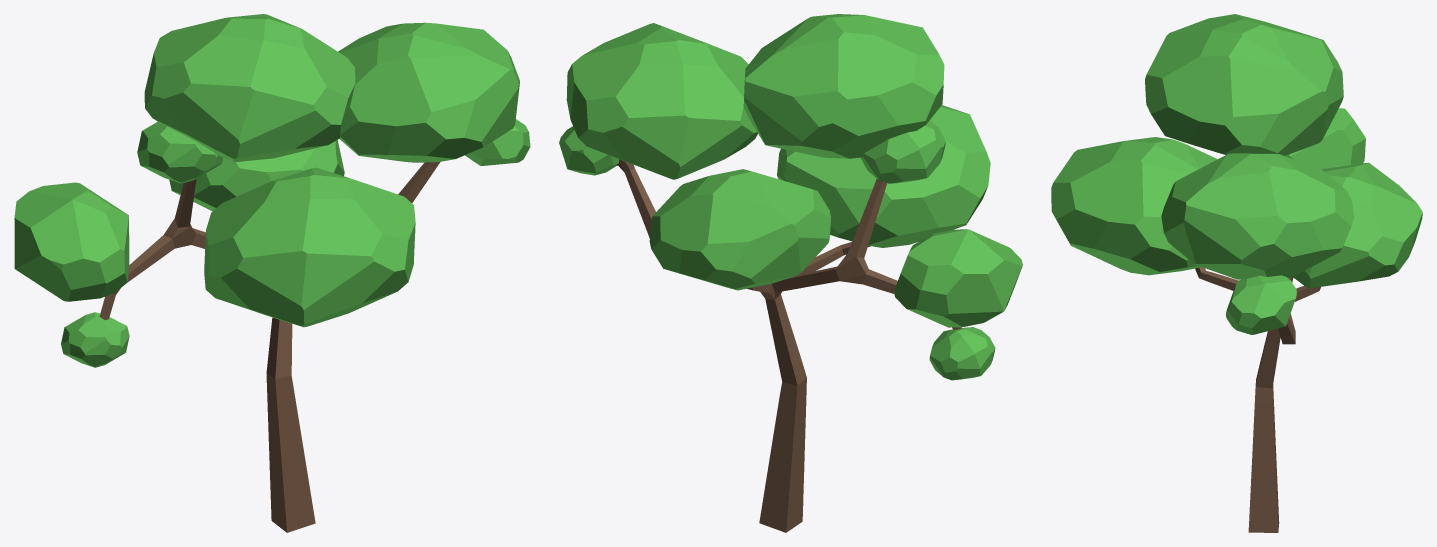
The model's file is Pohon 1 fix.fbx.
The picture shows the model from 3 angles, left to right: view 1: azimuth 30°, elevation 25°; view 2: azimuth 150°, elevation 25°; view 3: azimuth 270°, elevation 25°; orthographic projection. The views are drawn at different scales.
Visible parts, largest first — view 1: Icosphere.019, Icosphere.015, Icosphere.017, Icosphere.021, Plane, Icosphere.020, Icosphere.016, Icosphere.022, Icosphere.018; view 2: Icosphere.015, Icosphere.017, Icosphere.020, Icosphere.019, Plane, Icosphere.021, Icosphere.016, Icosphere.022, Icosphere.018; view 3: Icosphere.015, Icosphere.017, Icosphere.019, Icosphere.020, Plane, Icosphere.018, Icosphere.021.
Boxes of the visible parts, <box> form: Icosphere.019: <box>204,167,415,327</box>; Icosphere.015: <box>144,14,355,161</box>; Icosphere.017: <box>338,22,519,162</box>; Icosphere.021: <box>14,182,129,301</box>; Plane: <box>99,162,440,532</box>; Icosphere.020: <box>169,140,344,211</box>; Icosphere.016: <box>137,121,222,183</box>; Icosphere.022: <box>61,312,129,367</box>; Icosphere.018: <box>465,119,530,165</box>; Icosphere.015: <box>743,14,944,158</box>; Icosphere.017: <box>566,23,757,179</box>; Icosphere.020: <box>649,169,830,290</box>; Icosphere.019: <box>777,105,990,247</box>; Plane: <box>616,159,961,532</box>; Icosphere.021: <box>894,229,1022,327</box>; Icosphere.016: <box>861,120,945,183</box>; Icosphere.022: <box>929,327,995,380</box>; Icosphere.018: <box>559,126,618,175</box>; Icosphere.015: <box>1145,14,1343,155</box>; Icosphere.017: <box>1161,153,1354,279</box>; Icosphere.019: <box>1051,137,1217,275</box>; Icosphere.020: <box>1293,162,1422,288</box>; Plane: <box>1195,267,1320,532</box>; Icosphere.018: <box>1226,275,1297,334</box>; Icosphere.021: <box>1285,108,1365,169</box>.
Bounding box in the file's own units: 818 × 846 × 597.
